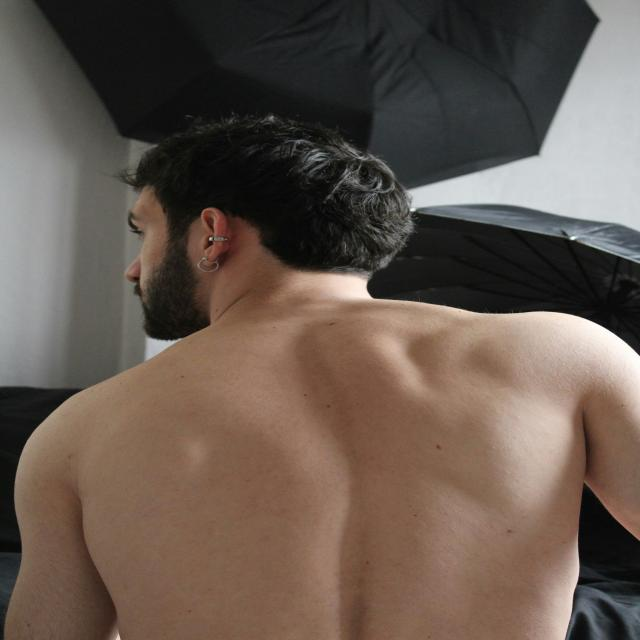piel: (4, 208, 640, 640), (122, 185, 169, 303)
